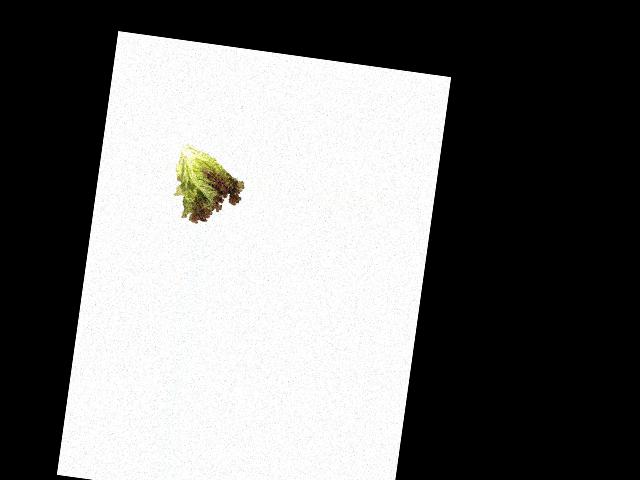lettuce: (169, 144, 247, 229)
